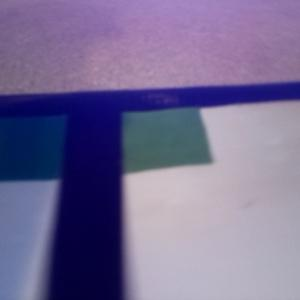bottom_left: (1, 93, 122, 181)
bottom_right: (68, 89, 213, 174)
